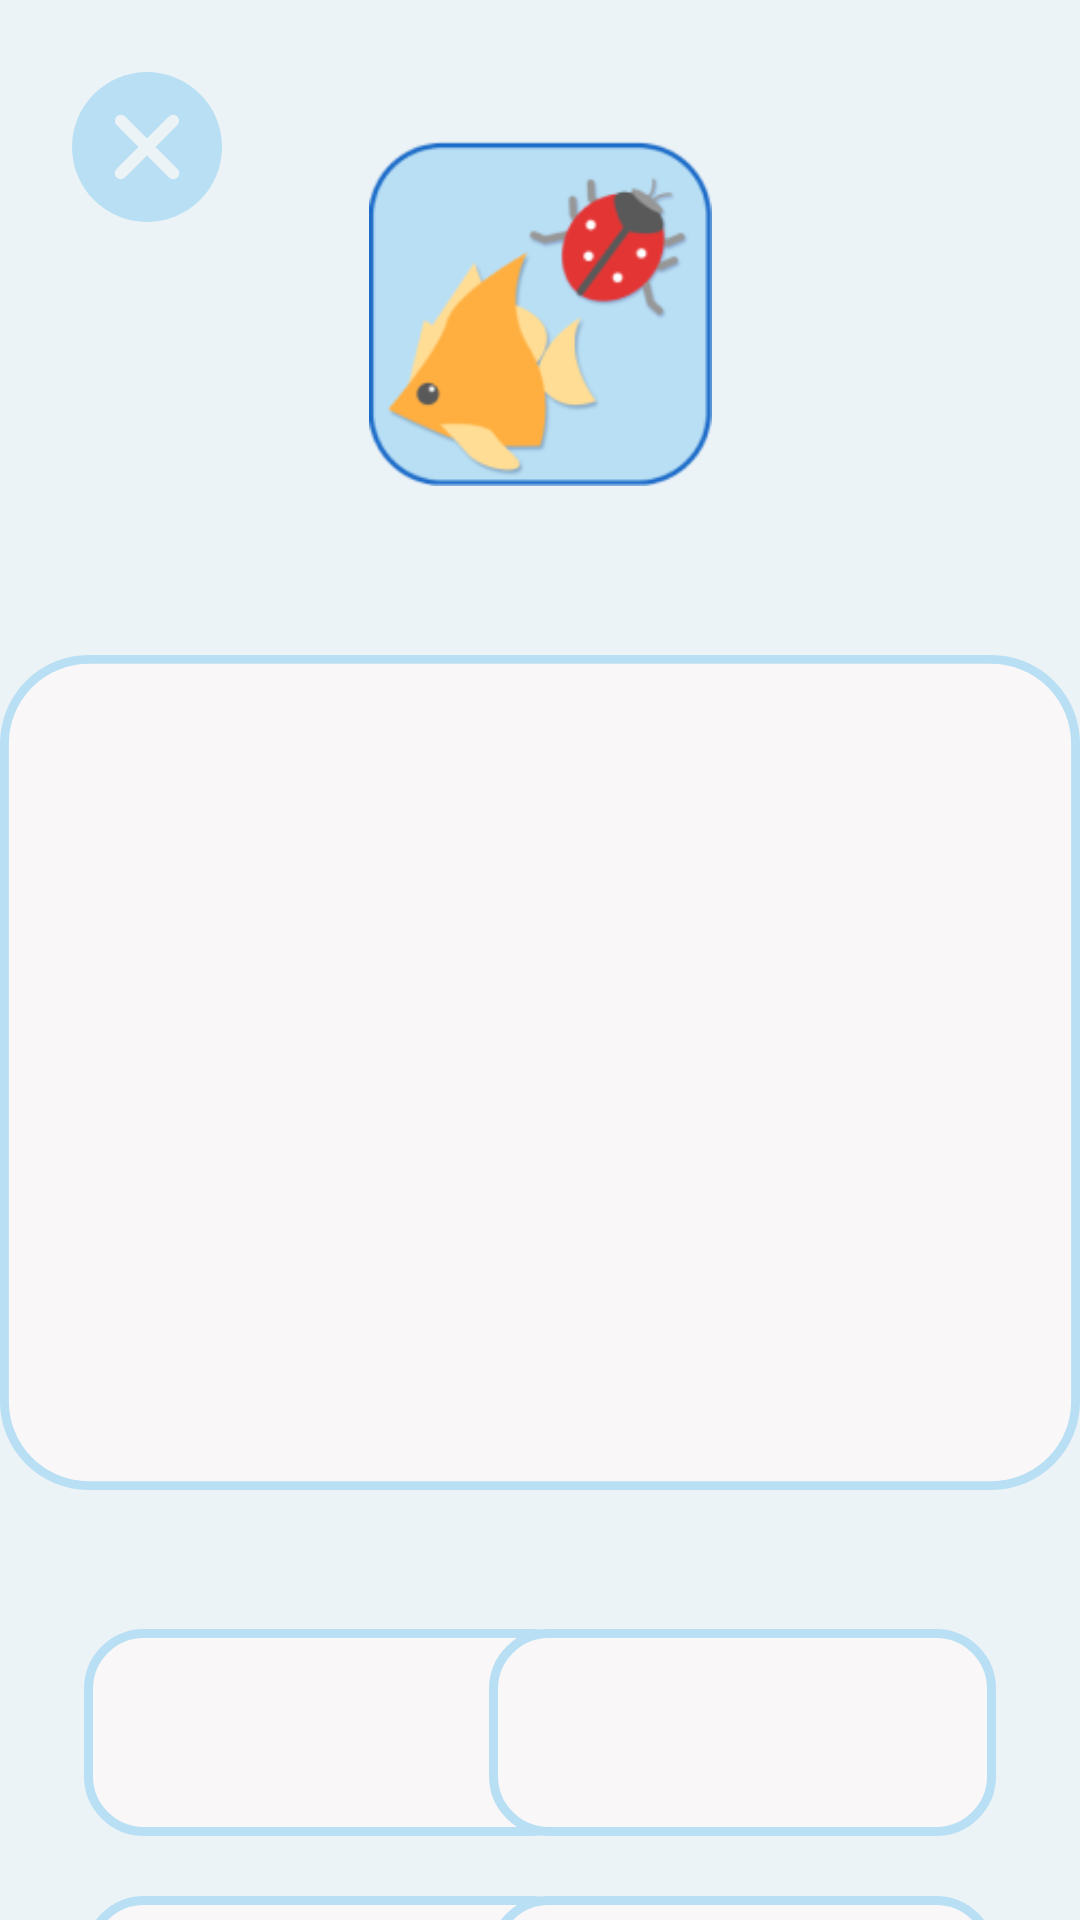

Named icons in this screenshot (1080 x 1920) and their centers, point (x, y):
animalgameexit: point (147, 147)
animalgameicon: point (540, 314)
